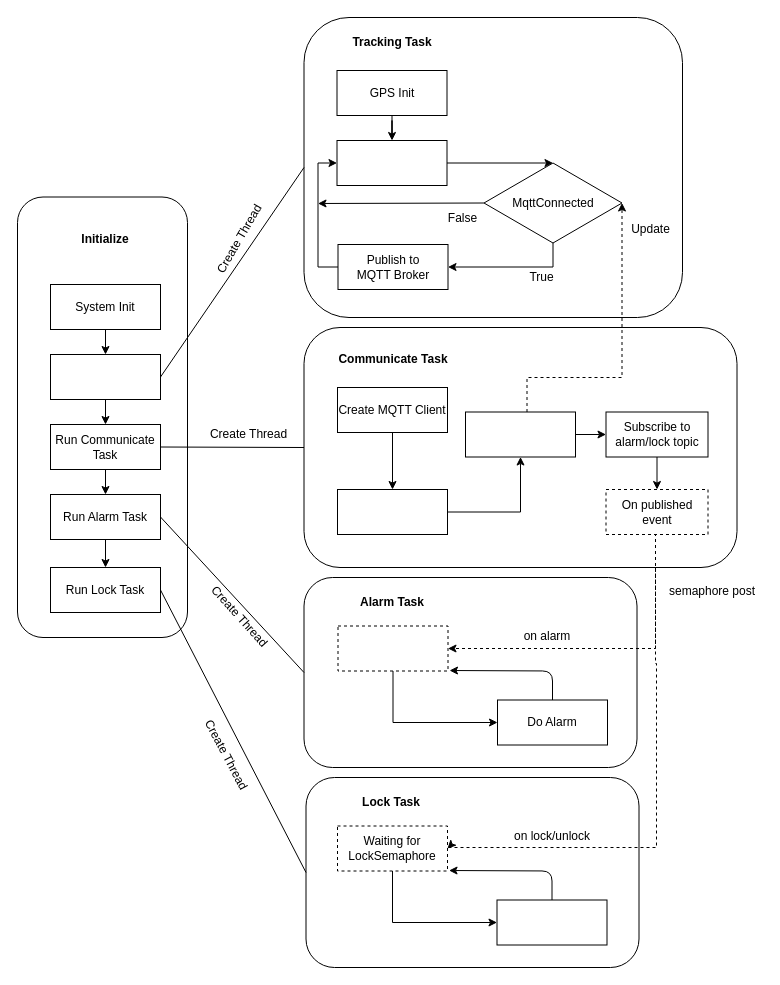
Image size: 780x985. Some labels were removed from this diagram. The shapes that lost their labels are listed below. From the top down, each one's box as (x1, y1, x2, y2) in pixels, then its label:
(336, 140, 447, 186): Get GPS Value
(50, 354, 160, 400): Run Tracking Task
(464, 411, 576, 457): Update MqttConnected Status
(336, 488, 448, 534): Connect to MQTT Broker
(337, 625, 448, 671): Waiting for AlarmSemaphore
(496, 899, 607, 945): Do Lock
